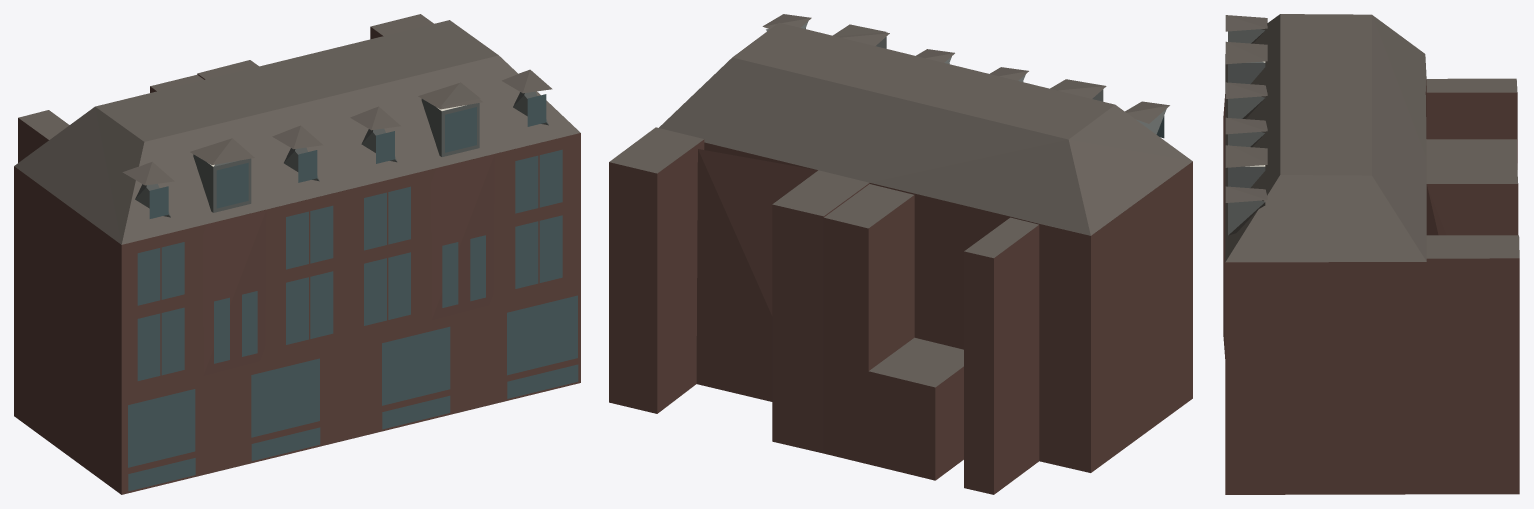
The model's file is electric-ladyland.lod2.glb.
The picture shows the model from 3 angles, left to right: view 1: azimuth 30°, elevation 25°; view 2: azimuth 150°, elevation 25°; view 3: azimuth 270°, elevation 25°; orthographic projection. The views are drawn at different scales.
Parts seen in each view (by area): view 1: lod2; view 2: lod2; view 3: lod2.
Boxes of the visible parts, left/top/right/bottom form: lod2: left=14, top=14, right=580, bottom=494; lod2: left=609, top=14, right=1192, bottom=494; lod2: left=1223, top=14, right=1519, bottom=494.
Bounding box in the file's own units: 19.41 × 12.87 × 11.75.
